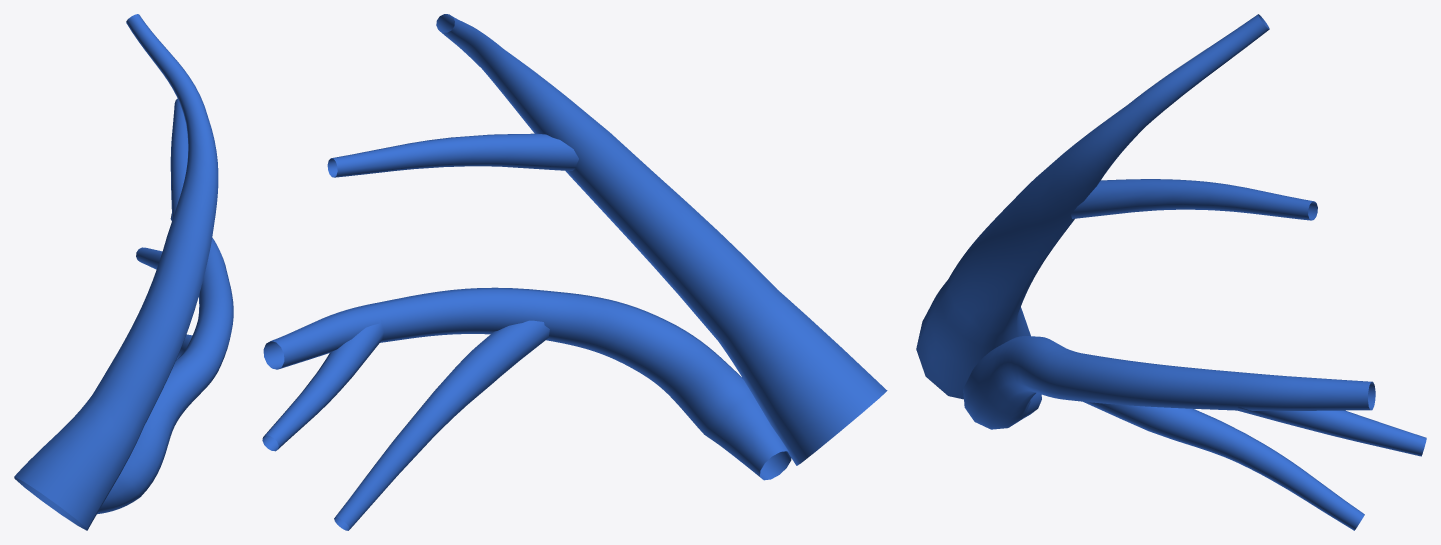
Rendered from circulatorio-posterior-segmental-artery-of-left-lung.glb.
3 views of the same model, side by side, from view 1: azimuth 30°, elevation 25°; view 2: azimuth 150°, elevation 25°; view 3: azimuth 270°, elevation 25° (orthographic). The views are drawn at different scales.
Parts seen in each view (by area): view 1: Posterior segmental artery of left lung; view 2: Posterior segmental artery of left lung; view 3: Posterior segmental artery of left lung.
Boxes of the visible parts, box(x1,y1,x2,y2) form: Posterior segmental artery of left lung: box(14, 14, 233, 530); Posterior segmental artery of left lung: box(262, 14, 887, 530); Posterior segmental artery of left lung: box(916, 14, 1426, 530).
Bounding box in the file's own units: 0.0486 × 0.0562 × 0.0522.
